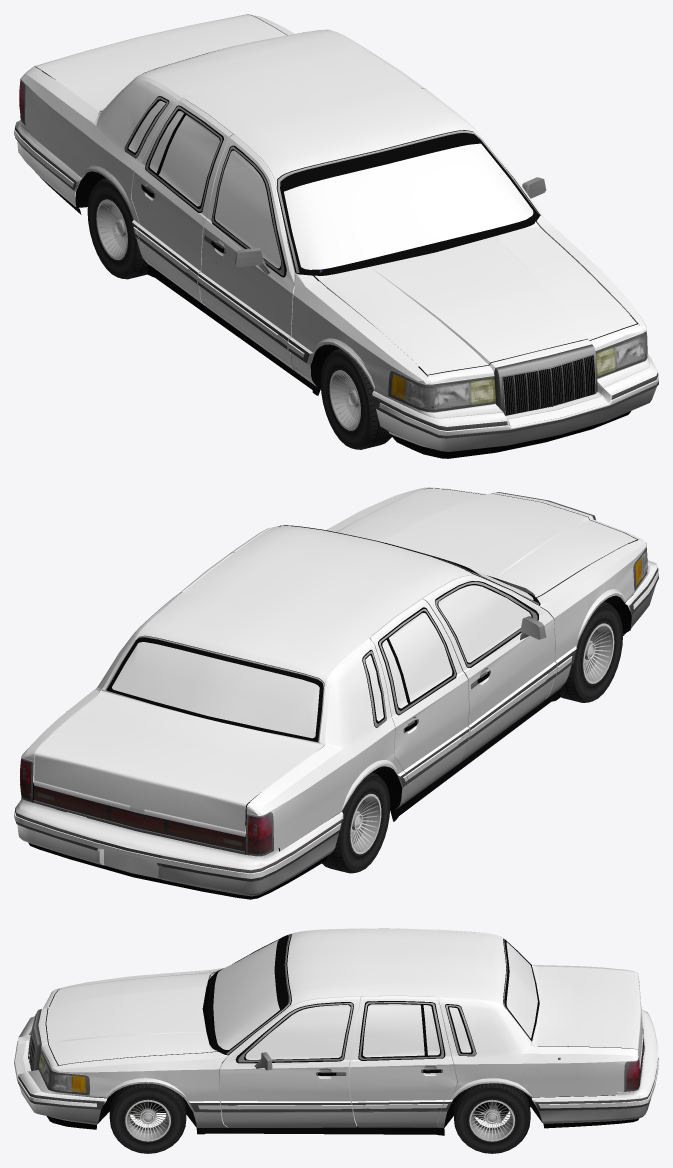
Rendered from Sedan.FBX.
3 views of the same model, one above another, from view 1: azimuth 30°, elevation 25°; view 2: azimuth 150°, elevation 25°; view 3: azimuth 270°, elevation 25° (orthographic). The views are drawn at different scales.
Parts seen in each view (by area): view 1: Body, Hood, Windshield, Front Right Door, Chassis, Rear Right Door, Front Bumper, Trunk, Wheel_FR, Wheel_RR, Rear Bumper, Right Headlight (+2 smaller); view 2: Body, Trunk, Hood, Rear Bumper, Front Right Door, Rear Windshield, Rear Right Door, Chassis, Wheel_RR, Wheel_FR, Tail Lights, Front Bumper (+1 smaller); view 3: Body, Front Left Door, Hood, Rear Left Door, Trunk, Chassis, Windshield, Rear Bumper, Wheel_RL, Wheel_FL, Front Bumper, Rear Windshield (+3 smaller).
Boxes of the visible parts, x1,y1,x2,y2 form: Body: (20,15,646,396); Hood: (314,221,636,374); Windshield: (280,133,537,275); Front Right Door: (197,134,294,369); Chassis: (20,14,647,419); Rear Right Door: (131,97,232,305); Front Bumper: (372,353,658,458); Trunk: (34,14,286,111); Wheel_FR: (320,348,391,449); Wheel_RR: (87,178,147,279); Rear Bumper: (14,120,82,214); Right Headlight: (405,378,495,410); Body: (21,487,646,851); Trunk: (34,690,323,836); Hood: (337,488,636,597); Rear Bumper: (14,798,343,899); Front Right Door: (422,575,556,766); Rear Windshield: (107,638,323,741); Rear Right Door: (369,599,469,805); Chassis: (21,487,647,856); Wheel_RR: (322,772,390,873); Wheel_FR: (560,601,622,702); Tail Lights: (33,786,245,851); Front Bumper: (623,560,658,635); Body: (38,928,638,1127); Front Left Door: (219,996,360,1127); Hood: (46,971,216,1065); Rear Left Door: (349,995,456,1127); Trunk: (532,965,643,1069); Chassis: (28,929,644,1135); Windshield: (209,935,288,1053); Rear Bumper: (531,1009,658,1128); Wheel_RL: (454,1083,530,1153); Wheel_FL: (109,1083,186,1153); Front Bumper: (14,1016,107,1129); Rear Windshield: (504,940,539,1040).
Size of the model in its own units: 2.4 by 1.52 by 5.86.
Materials: 20 (16 with a texture image).
